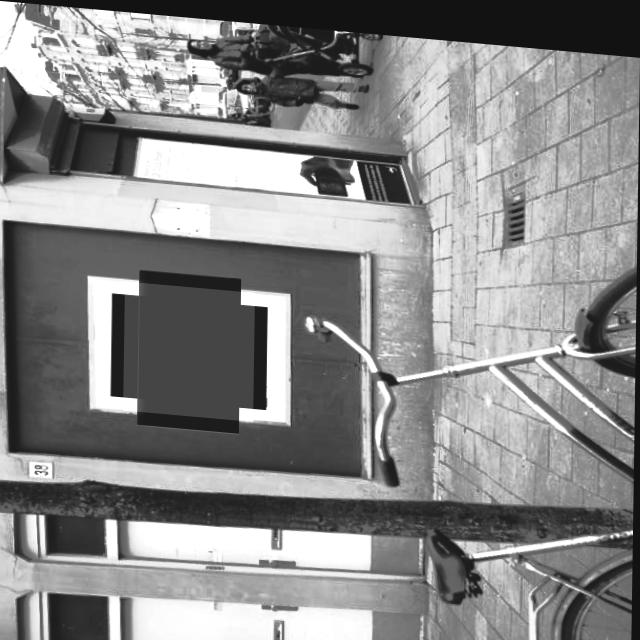qr_code: (124, 278, 256, 416)
